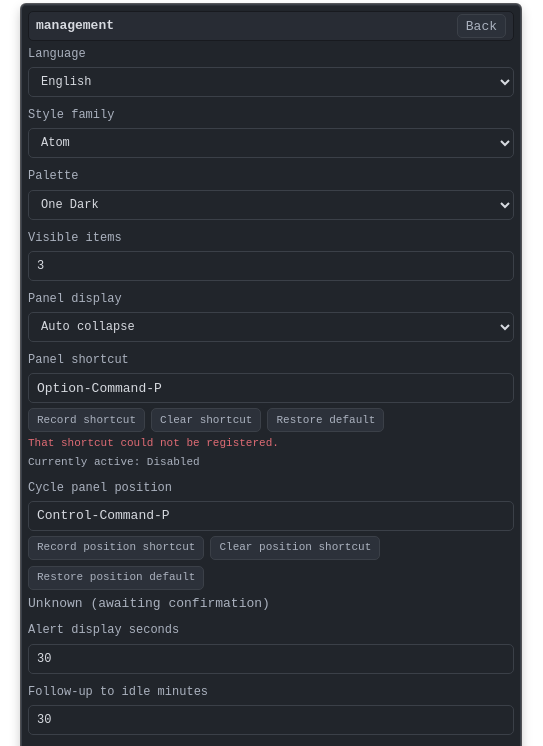
Test: StatusPanelView › keeps a saved custom shortcut after startup conflict with null active
Check: the message "That shortcut could not be registered." is shown, box [28,437,279,449]
Check: the field labelled "Panel shortcut" holds "Option-Command-P", box [28,373,514,403]
Step 1. Click the button "Back" → (481, 26), box [457,14,506,38]
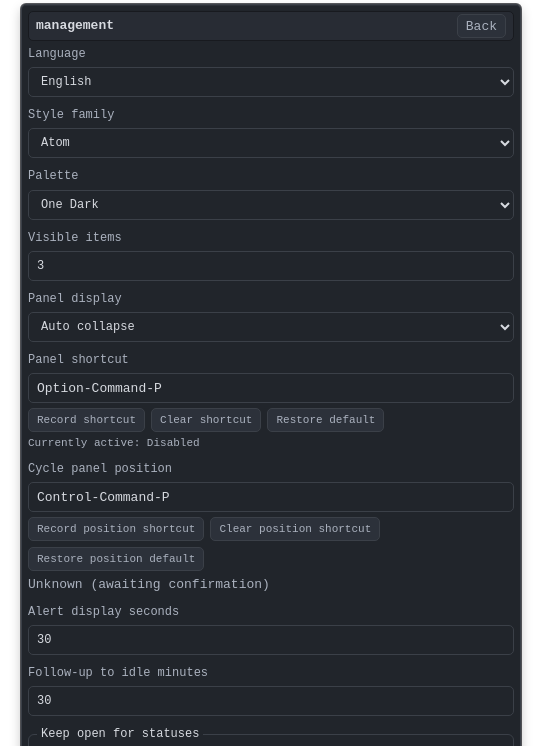
Check: the message "Currently active: Disabled" is shown, box [28,437,200,449]
Check: the message "That shortcut could not be registered." is gone
